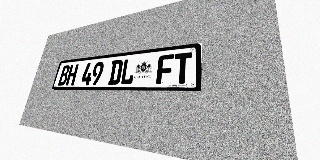4: (80, 62, 95, 85)
9: (90, 61, 105, 85)
B: (58, 65, 71, 85)
D: (108, 59, 123, 85)
F: (156, 54, 174, 84)
H: (65, 64, 79, 85)
L: (120, 58, 136, 85)
T: (173, 52, 192, 84)
